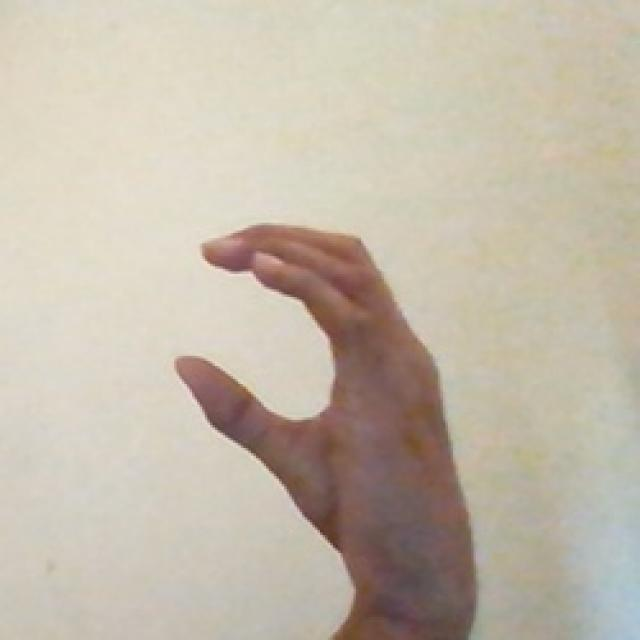Alphabet-C: (163, 200, 449, 586)
